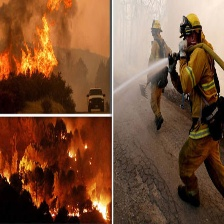fire: (1, 19, 58, 78), (48, 198, 110, 219), (46, 1, 79, 13), (66, 149, 84, 163), (3, 168, 13, 183), (59, 130, 67, 143), (82, 142, 89, 149)
smoke: (88, 121, 112, 194), (2, 1, 37, 51), (55, 12, 76, 62)
